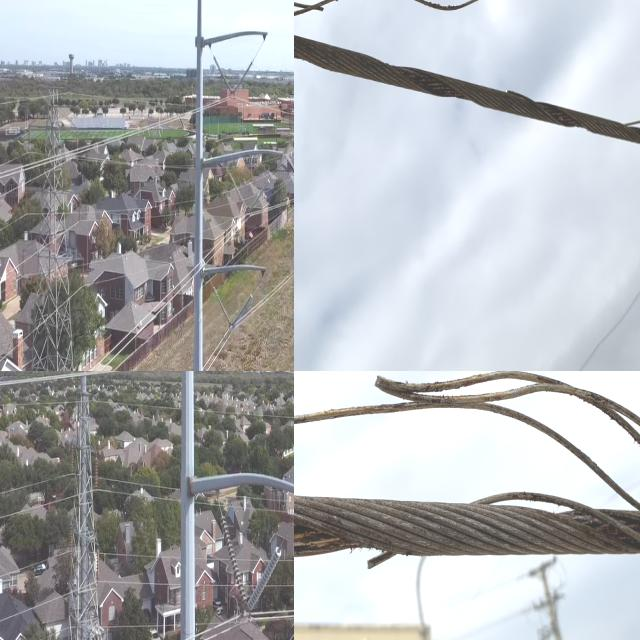杆塔: (26, 72, 86, 371), (57, 371, 113, 640)
正常绝缘子: (215, 510, 286, 625), (241, 170, 275, 222), (223, 162, 252, 220), (226, 54, 259, 104), (208, 46, 238, 100), (208, 278, 237, 333), (227, 286, 258, 334)
电缆破损: (294, 371, 640, 569), (294, 0, 640, 155)
